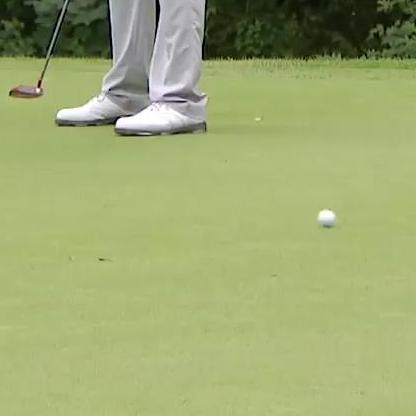golfball: (314, 206, 335, 227)
